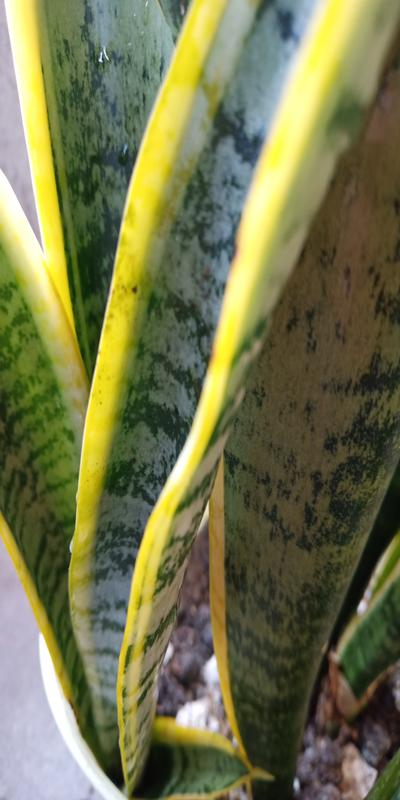Snake plant: (19, 1, 378, 666)
